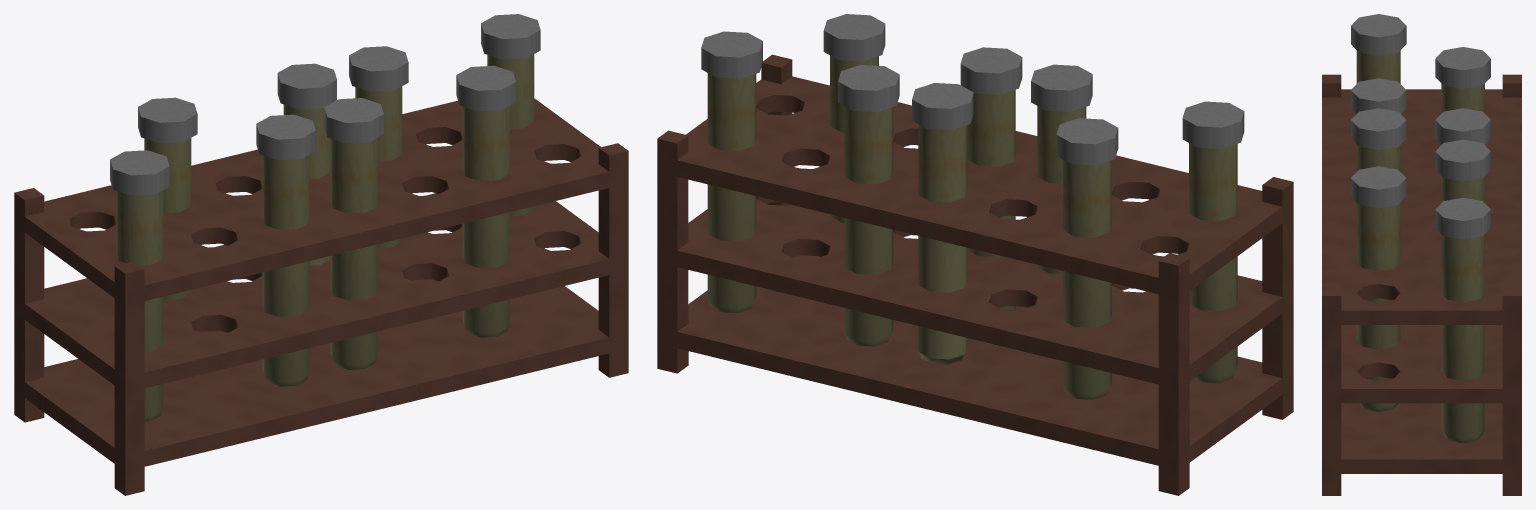
The model's file is TubesBox.fbx.
The picture shows the model from 3 angles, left to right: view 1: azimuth 30°, elevation 25°; view 2: azimuth 150°, elevation 25°; view 3: azimuth 270°, elevation 25°; orthographic projection. The views are drawn at different scales.
Visible parts, largest first — view 1: Cube.111; view 2: Cube.111; view 3: Cube.111.
Boxes of the visible parts, <box> form: Cube.111: <box>14,14,628,495</box>; Cube.111: <box>657,14,1293,495</box>; Cube.111: <box>1322,14,1521,495</box>.
Size of the model in its own units: 82.95 by 47.05 by 31.65.
